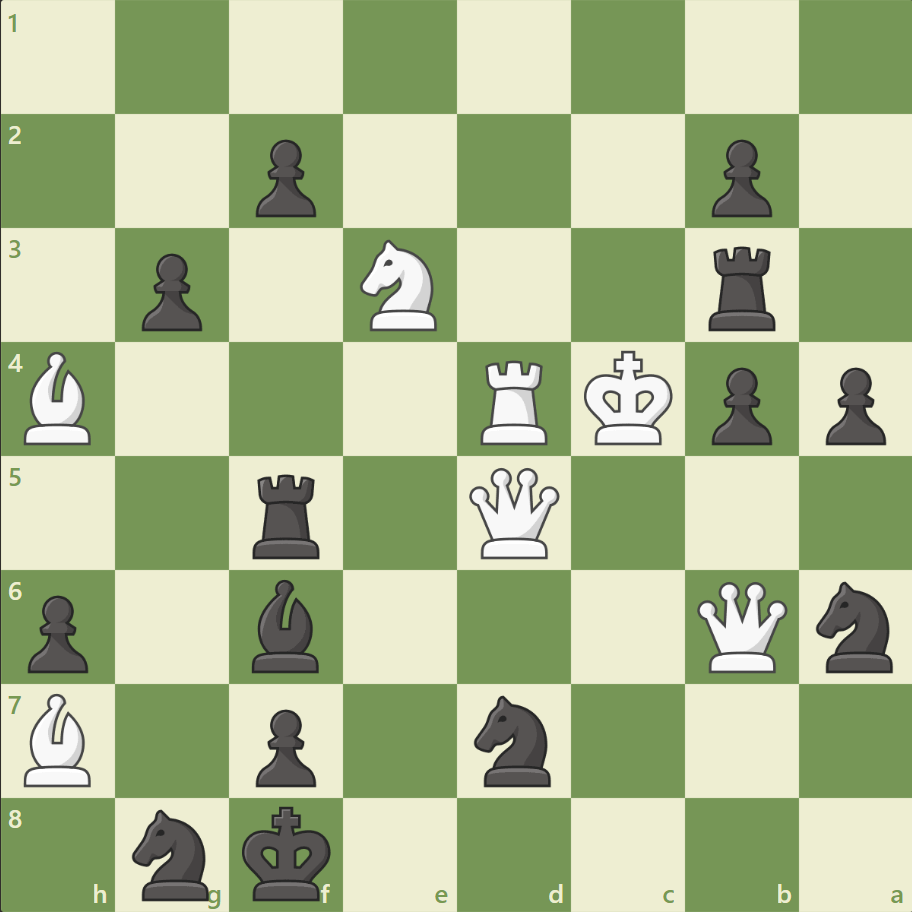B: (17, 687, 101, 790), (17, 347, 101, 449)
K: (579, 344, 679, 452)
N: (351, 234, 449, 337)
Q: (691, 576, 790, 676), (464, 463, 563, 562)
R: (473, 352, 556, 449)
b: (244, 574, 328, 676)
k: (238, 798, 338, 906)
n: (124, 802, 222, 904), (465, 688, 562, 791), (806, 575, 903, 677)
p: (247, 700, 322, 791), (20, 586, 95, 677), (701, 359, 776, 450), (133, 246, 208, 337), (701, 132, 776, 223), (247, 132, 322, 223), (815, 359, 889, 450)
r: (246, 466, 329, 563), (700, 239, 783, 336)
